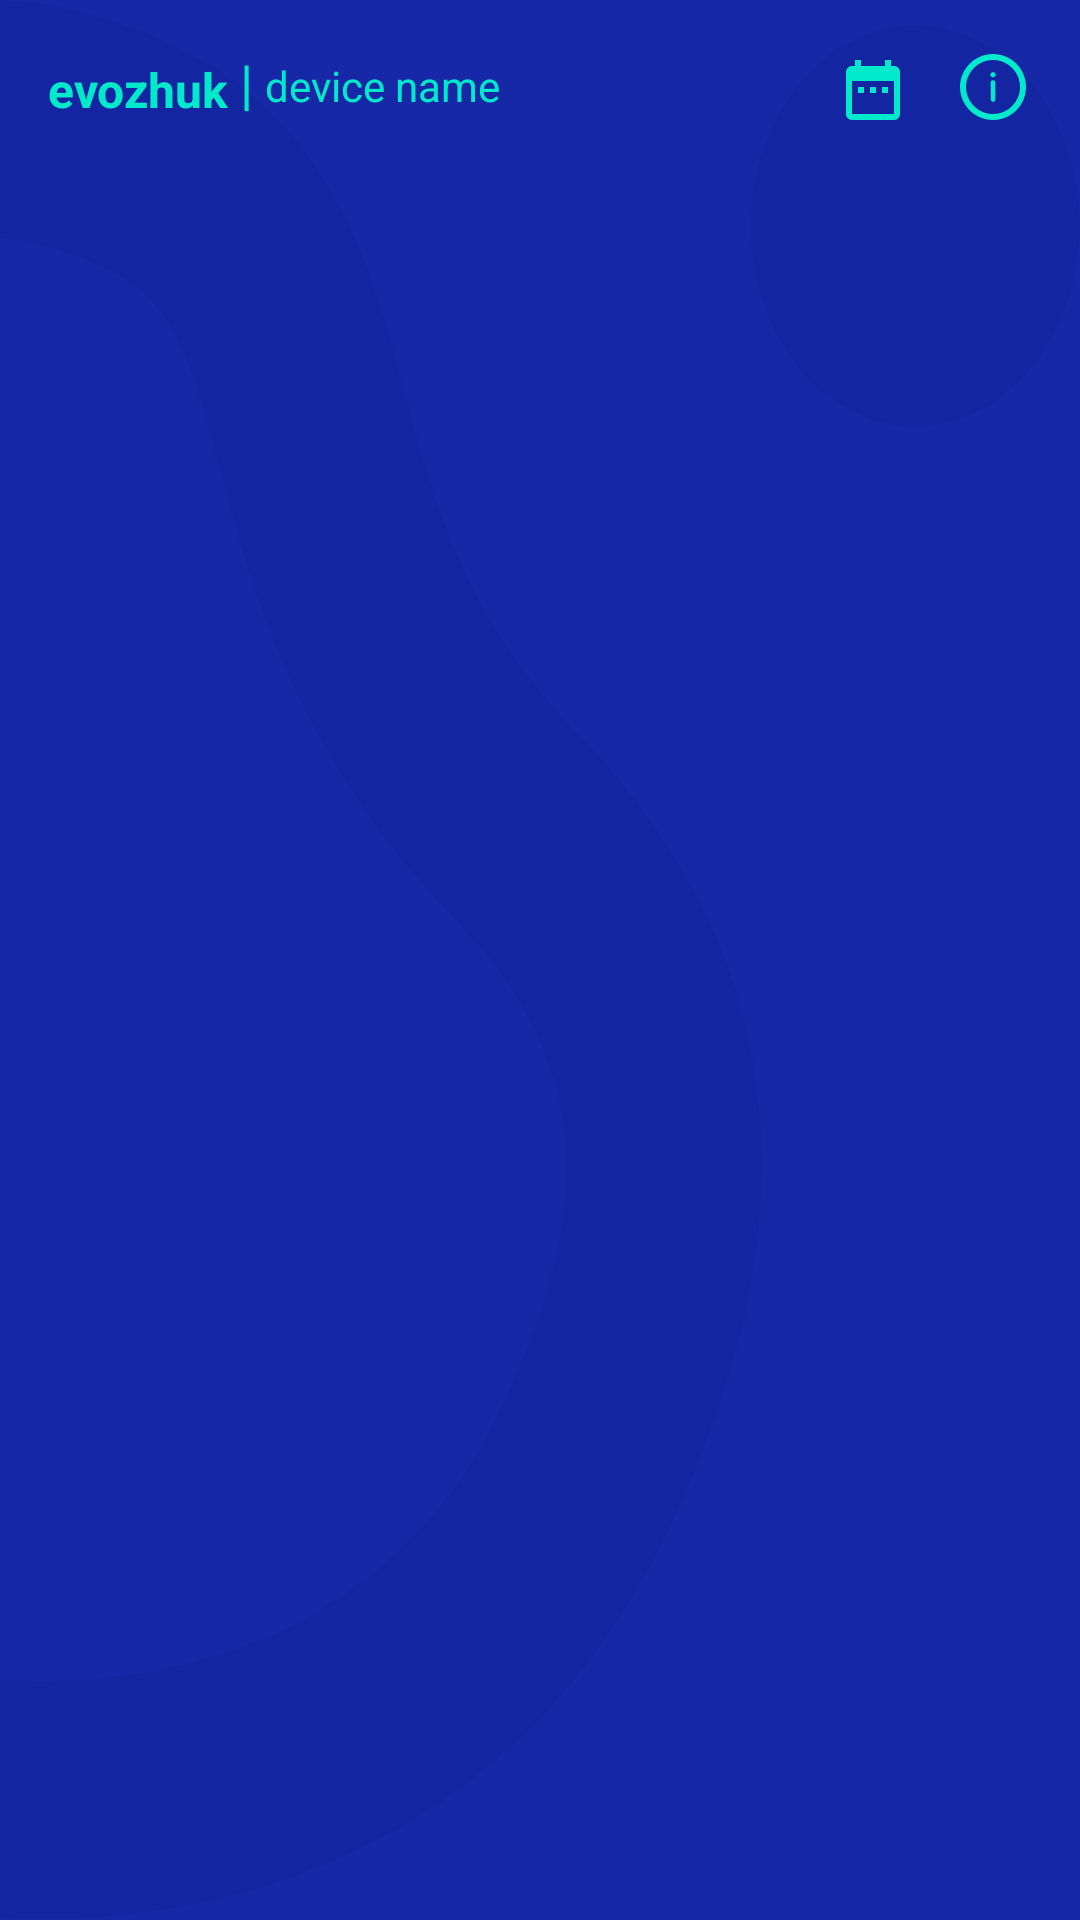

Icon bounding boxes for this 1080×1920 phone screenshot, format (x1, y1, x2, y2):
date range: (846, 60, 900, 120)
info: (960, 54, 1026, 120)
